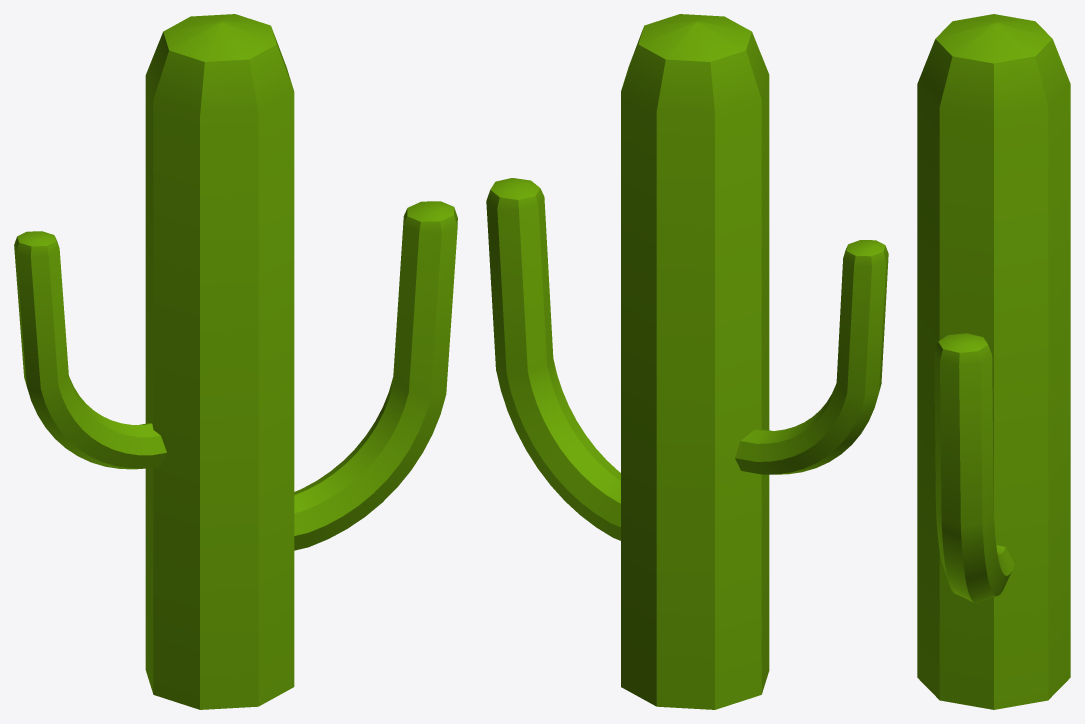
File: cactus.fbx
3 renders of one model, left to right at view 1: azimuth 30°, elevation 25°; view 2: azimuth 150°, elevation 25°; view 3: azimuth 270°, elevation 25°, orthographic.
Parts seen in each view (by area): view 1: Cylinder001; view 2: Cylinder001; view 3: Cylinder001.
Part boxes in pixels (box(x1,y1,x2,y2)): Cylinder001: box(14, 14, 457, 709); Cylinder001: box(486, 14, 888, 709); Cylinder001: box(917, 14, 1070, 709).
Bounding box in the file's own units: 42.8 × 64.2 × 13.65.
